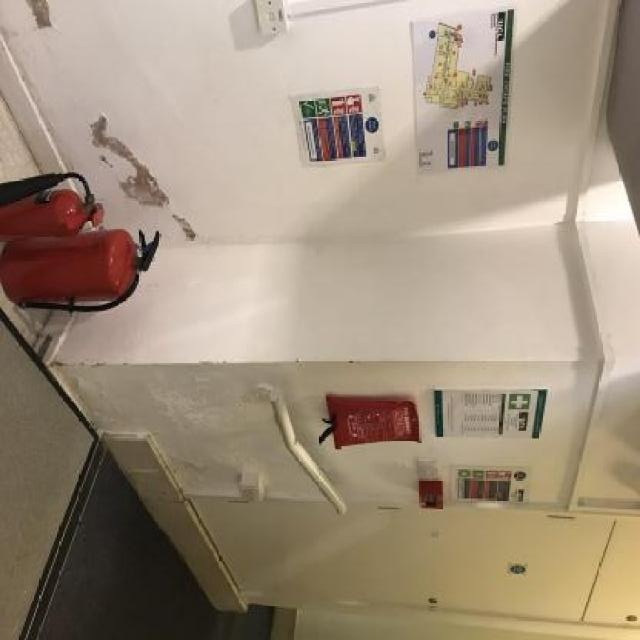fire extinguisher: (2, 230, 160, 321), (2, 161, 107, 247)
